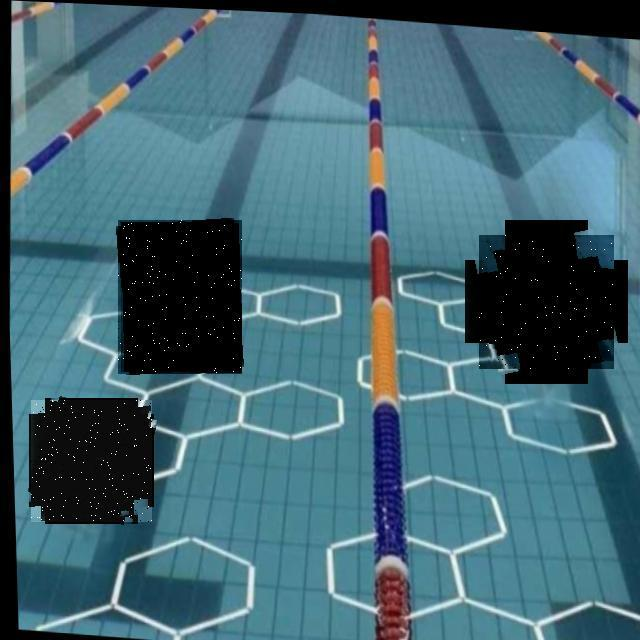swimming: (118, 220, 242, 374), (479, 235, 614, 369), (31, 400, 152, 522)
